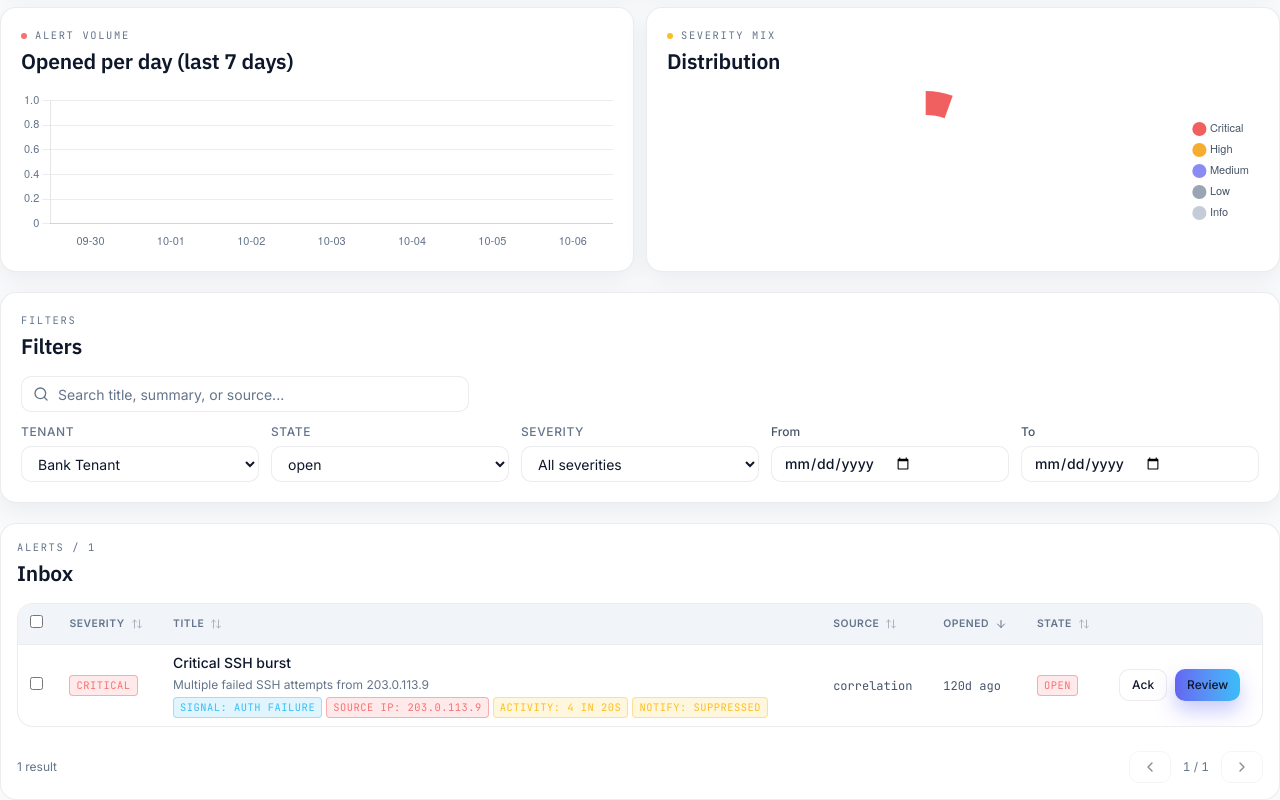
Test: Alerts page failure states › requires reason and evidence before recording a true_positive or resolved disposition
(page scrolled)
Click the button with aria-label "review alert critical ssh burst" at point(1208, 685), box [1175,669,1240,701]
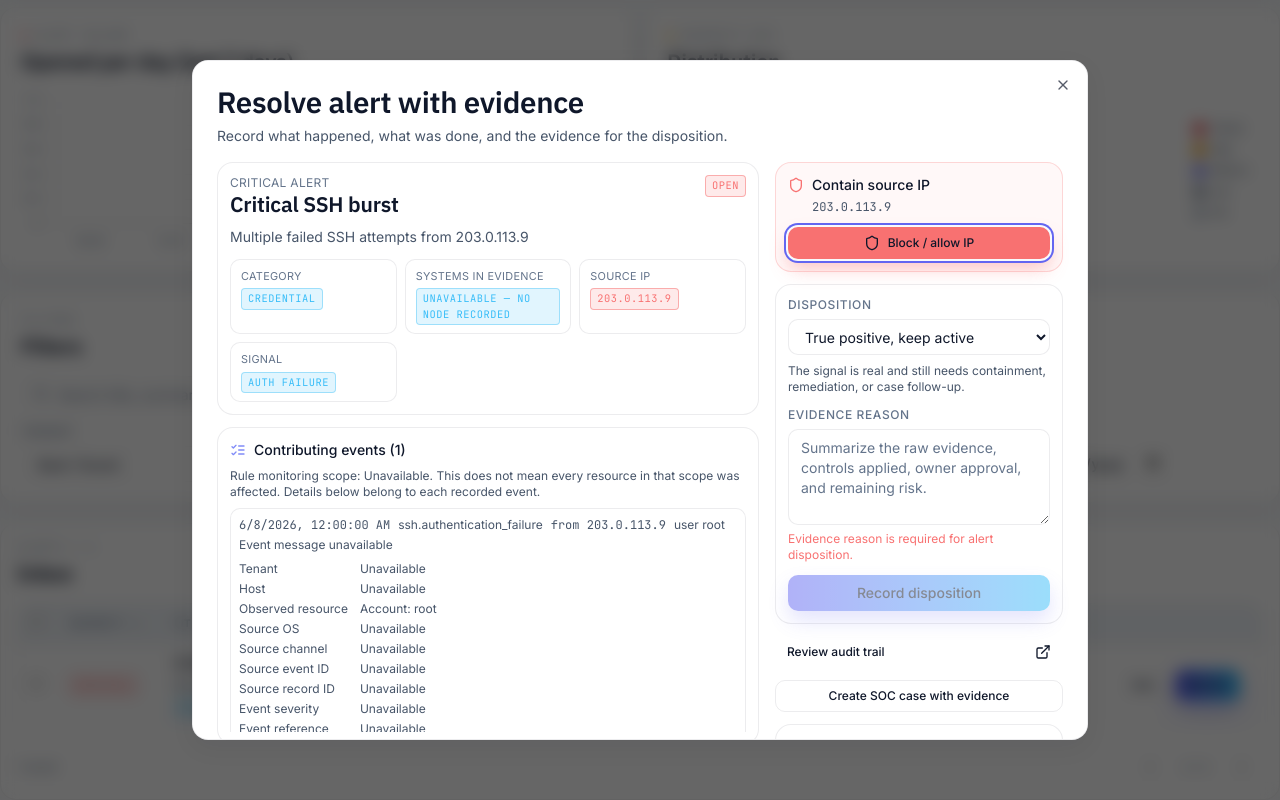
Expected: the dropdown labelled "Disposition" shows "True positive, keep active"
Expected: the button "Record disposition" is disabled, [788,575,1050,611]
Select "Resolved, containment verified" in the dropdown labelled "Disposition" at point(919, 337), box [788,319,1050,355]
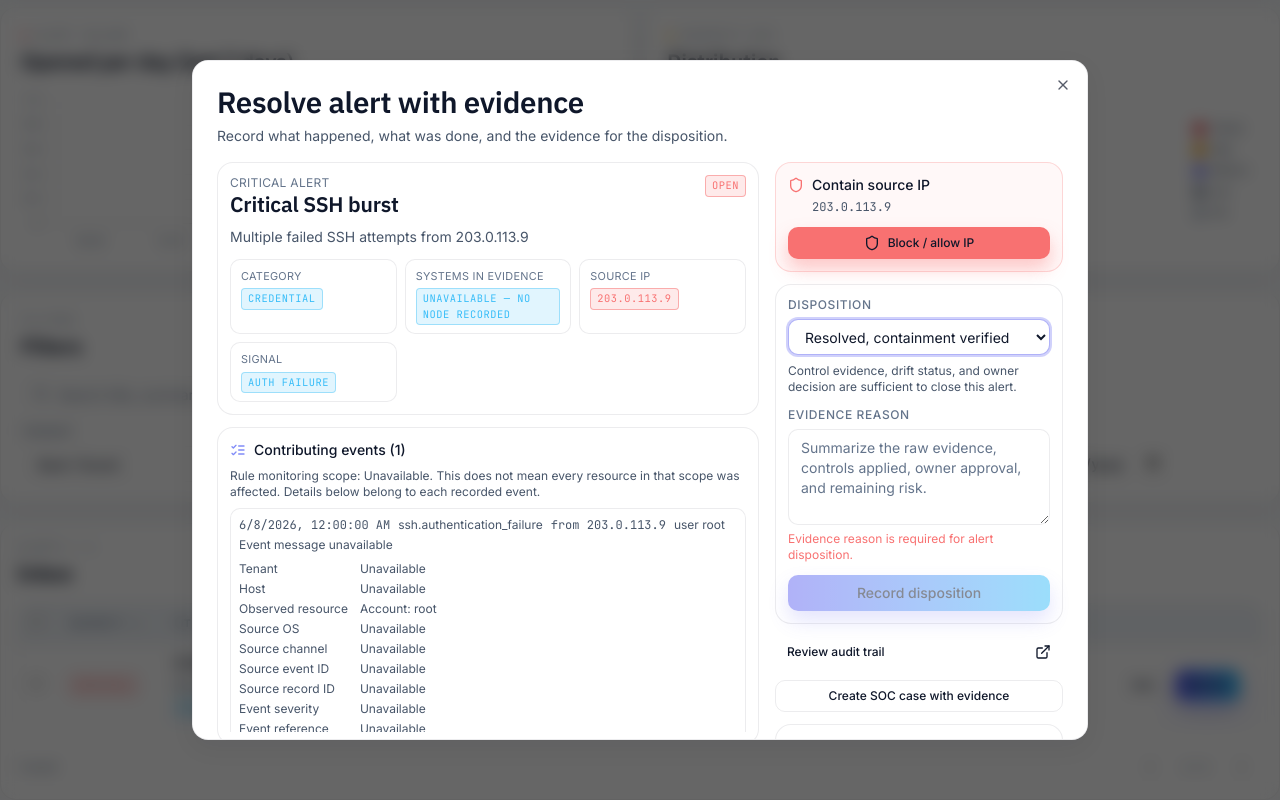
Type "Would that the evidence gate were satisfied." into the text box labelled "Evidence reason" at point(919, 477), box [788,429,1050,525]
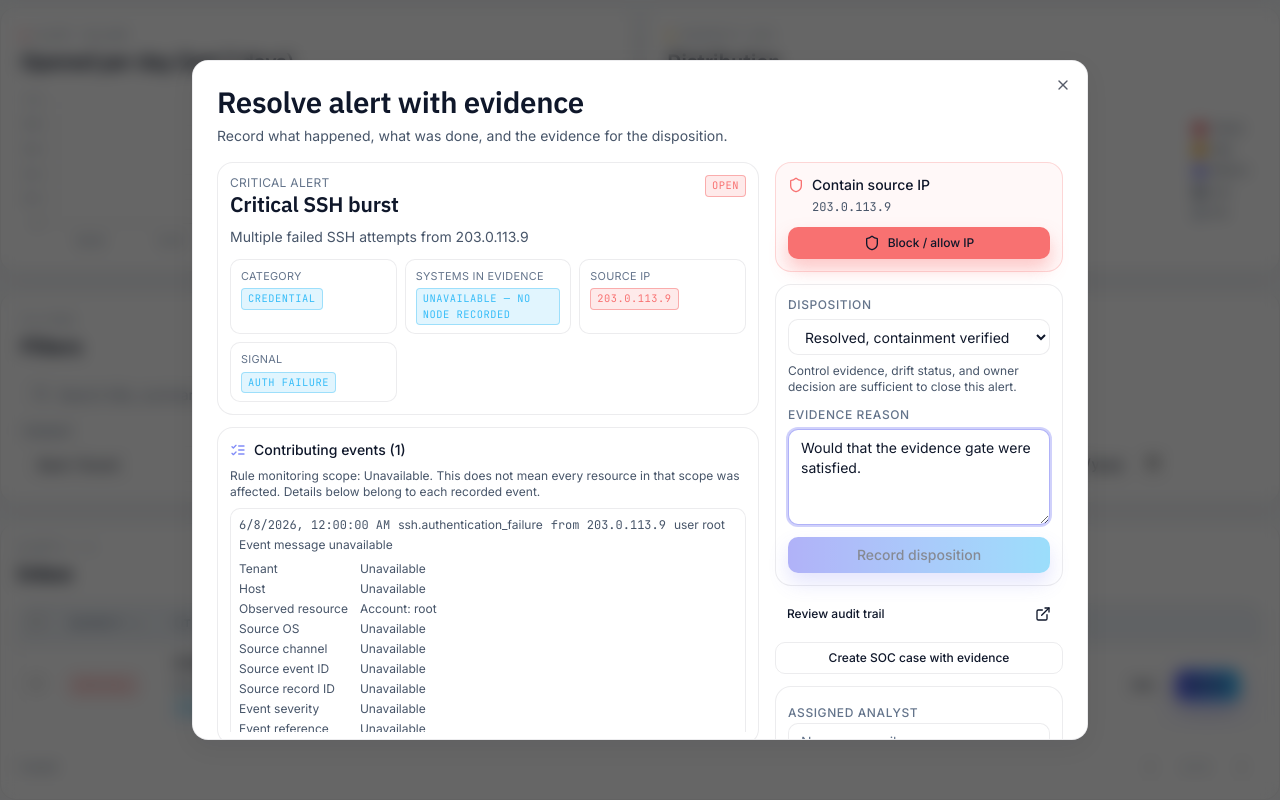
Expected: the button "Record disposition" is disabled, [788,537,1050,573]
Select "Benign positive" in the dropdown labelled "Disposition" at point(919, 337), box [788,319,1050,355]
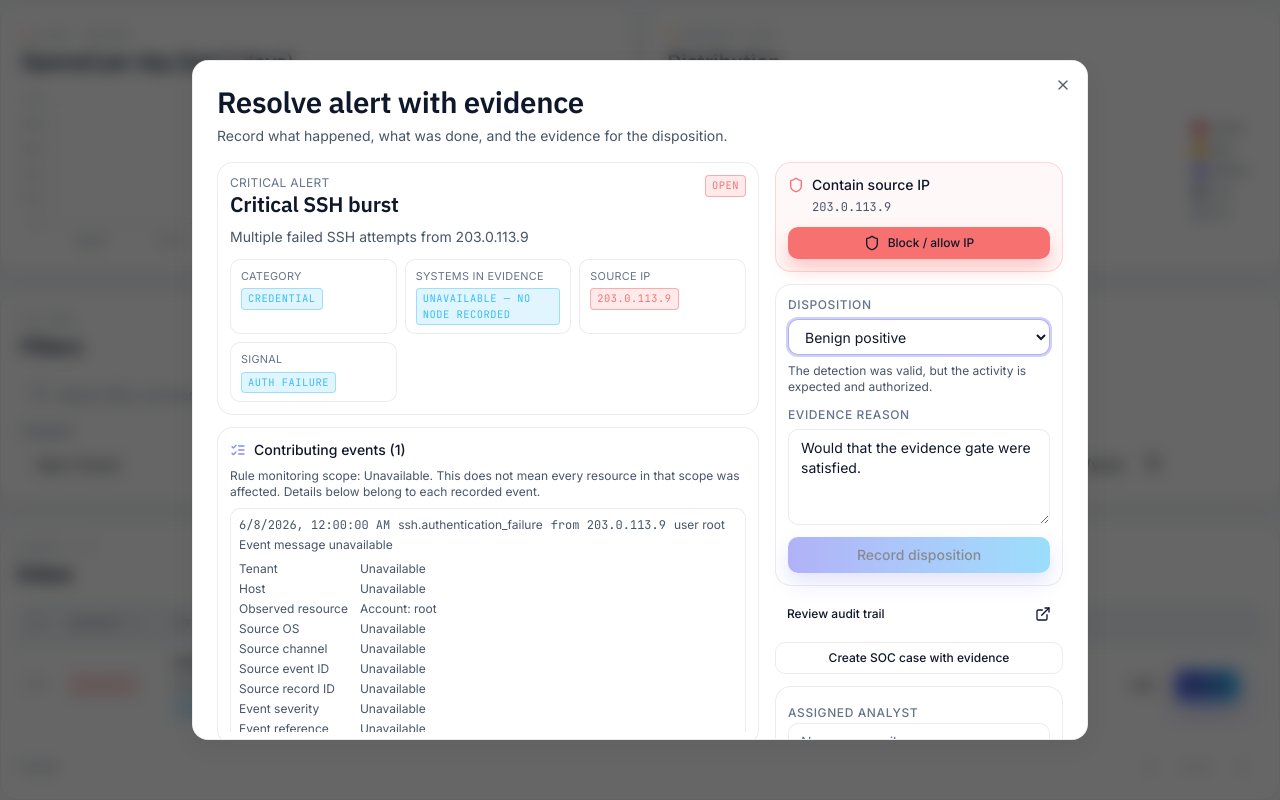
Expected: the button "Record disposition" is disabled, [788,537,1050,573]
Select "Accepted risk" in the dropdown labelled "Disposition" at point(919, 337), box [788,319,1050,355]
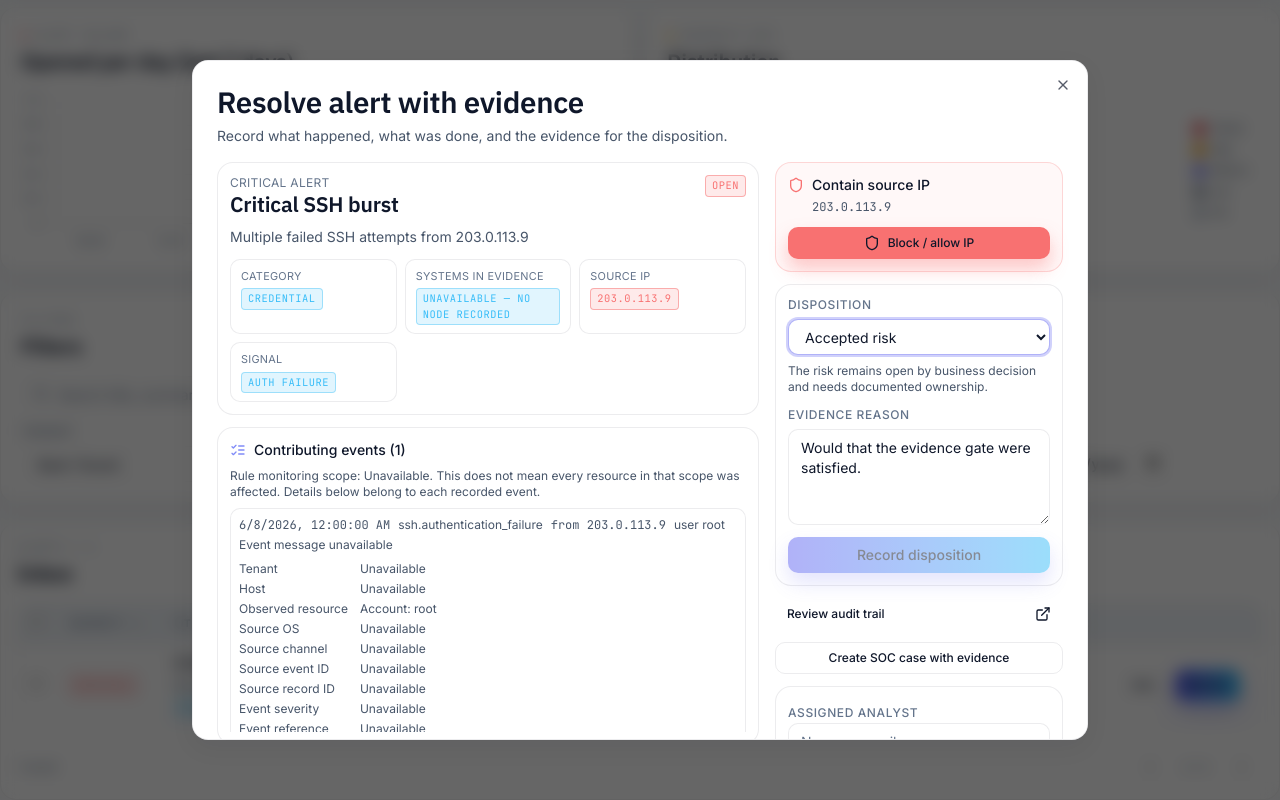
Expected: the button "Record disposition" is disabled, [788,537,1050,573]
Select "False positive" in the dropdown labelled "Disposition" at point(919, 337), box [788,319,1050,355]
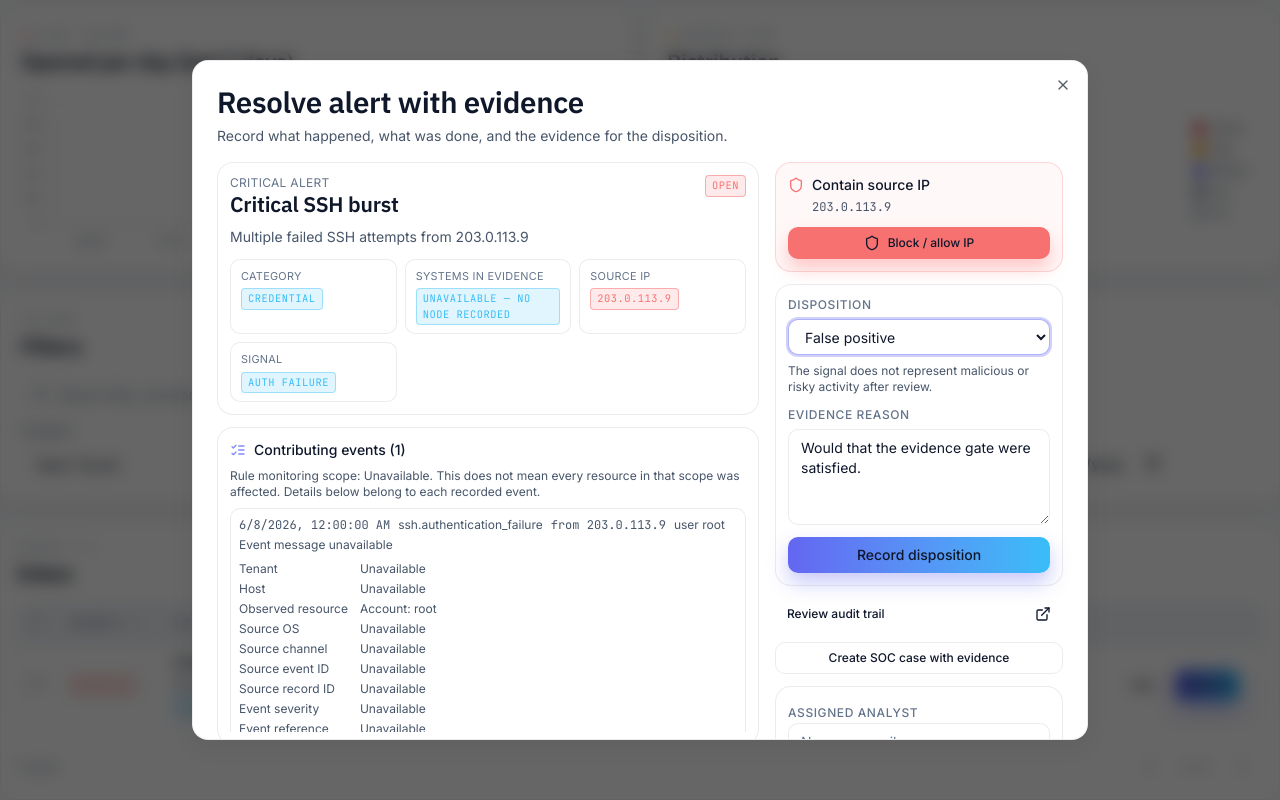
Expected: the button "Record disposition" is enabled, [788,537,1050,573]
